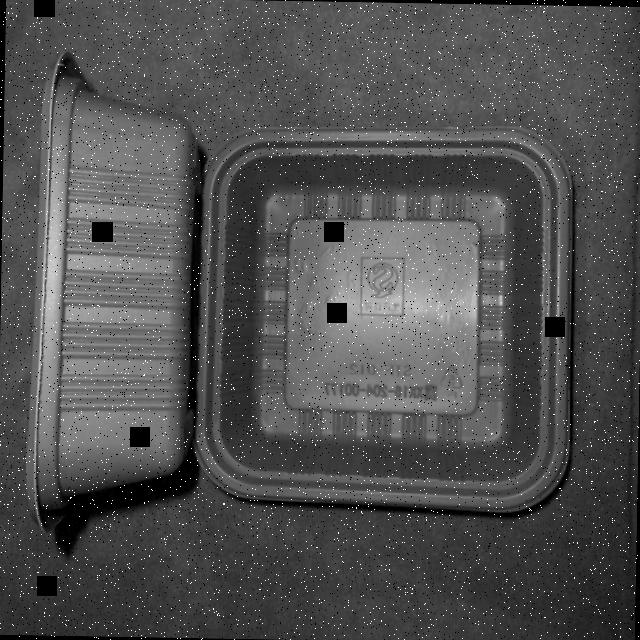plastic_box: (188, 123, 570, 507), (25, 49, 202, 534)
